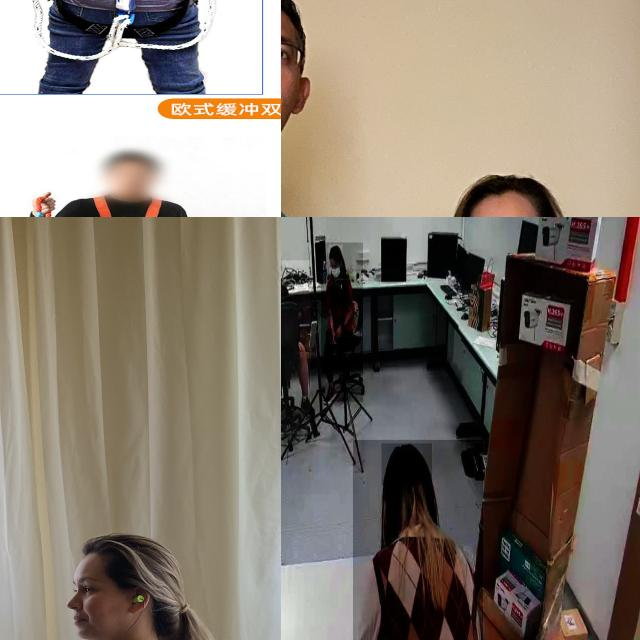Harness: (57, 0, 197, 40)
No_Ear-Protection: (290, 76, 312, 114)
face_mask: (330, 259, 342, 287)
hand_noglove: (331, 328, 338, 346), (297, 338, 306, 352), (334, 326, 342, 340)
head_nohelmet: (382, 444, 432, 486), (329, 244, 343, 258)
person: (352, 440, 483, 640), (321, 242, 363, 402), (281, 260, 310, 435)
shoes: (296, 387, 318, 424)
